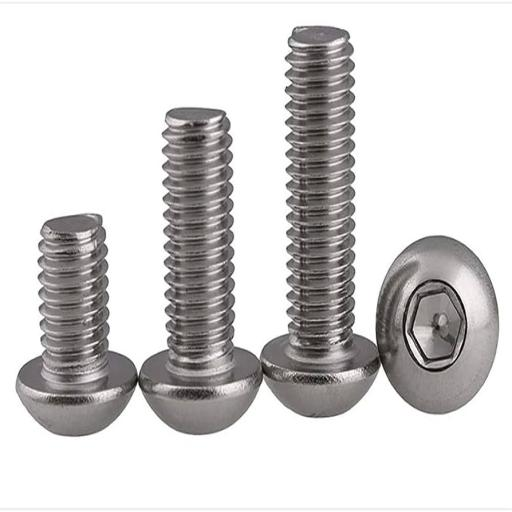Hex-Allen: (377, 234, 496, 414)
